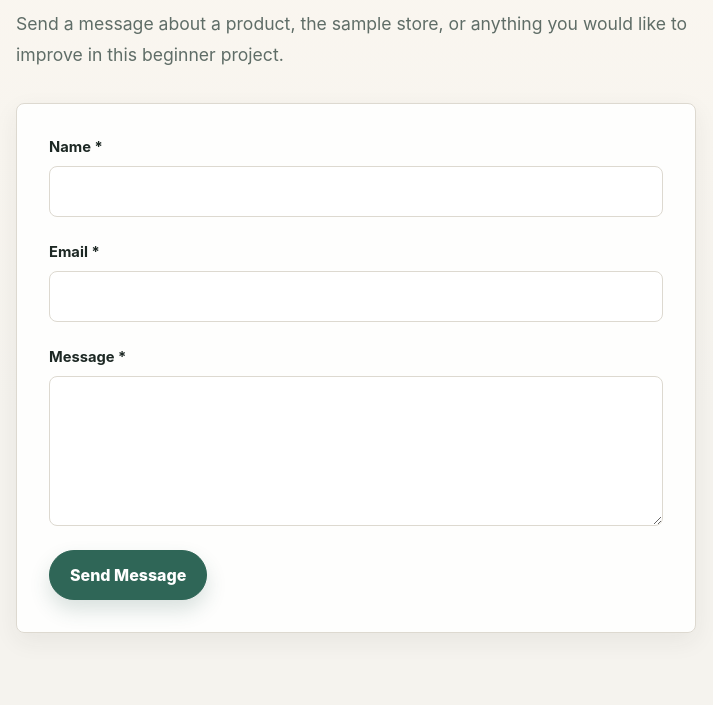
Test: ContactForm › shows validation errors for empty fields
(page scrolled)
Click the button "Send Message" at (128, 575), box [49,550,207,600]
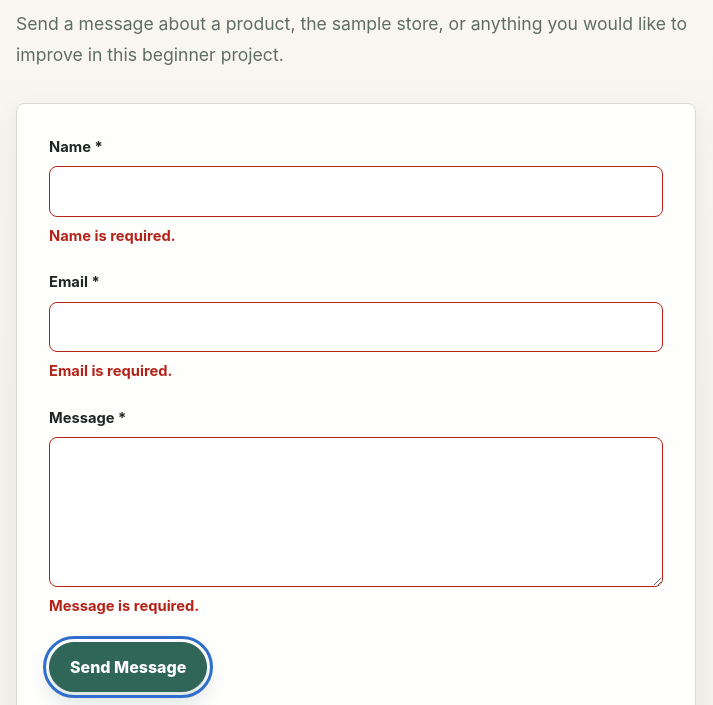
Now the text "Name is required." is shown, box [49,227,176,245]
Now the text "Email is required." is shown, box [49,362,172,380]
Now the text "Message is required." is shown, box [49,597,199,615]
